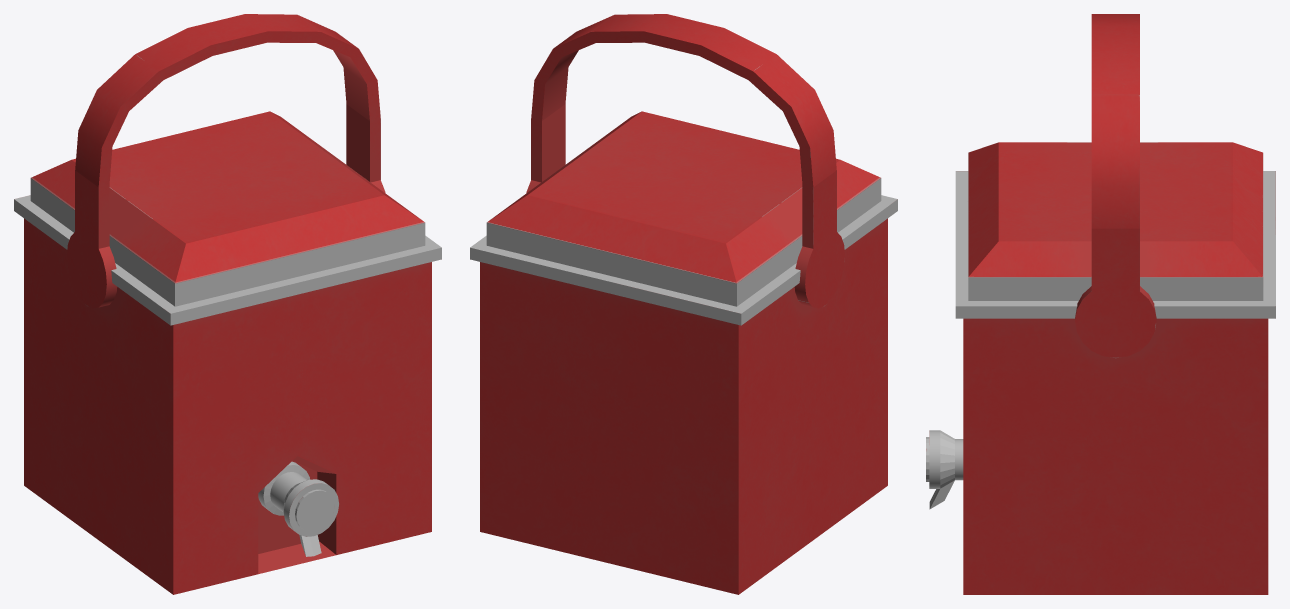
The model's file is Kratiknam.fbx.
3 views of the same model, side by side, from view 1: azimuth 30°, elevation 25°; view 2: azimuth 150°, elevation 25°; view 3: azimuth 270°, elevation 25° (orthographic). The views are drawn at different scales.
Visible parts, largest first — view 1: KraTikNam; view 2: KraTikNam; view 3: KraTikNam.
Part boxes in pixels (x1,y1,x2,y2): KraTikNam: (14, 14, 441, 594); KraTikNam: (470, 14, 897, 594); KraTikNam: (926, 14, 1275, 594).
Bounding box in the file's own units: 1.09 × 1.77 × 1.15.
